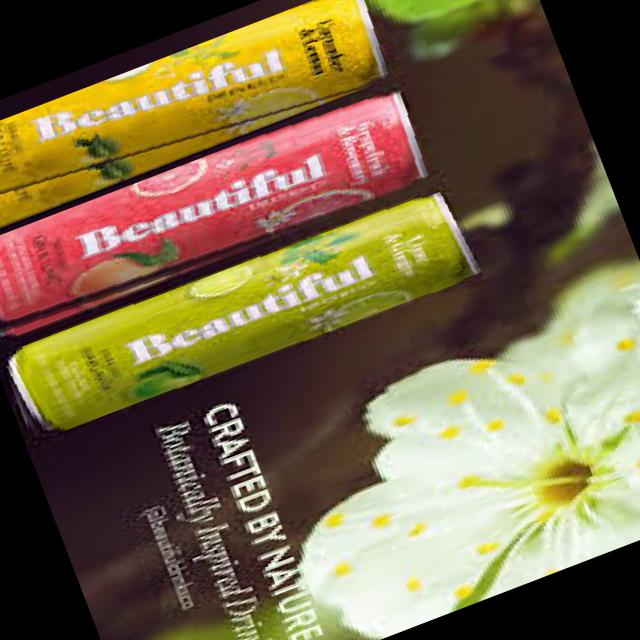Cans: (0, 179, 486, 460), (0, 80, 442, 354), (0, 0, 402, 250)
